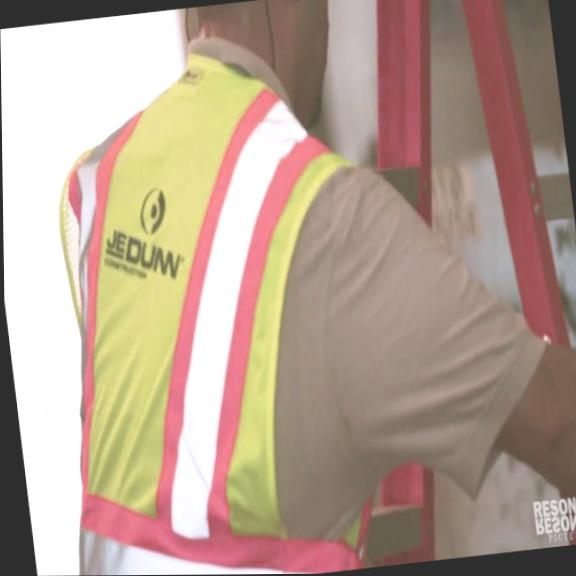safety_vest: (13, 32, 405, 576)
